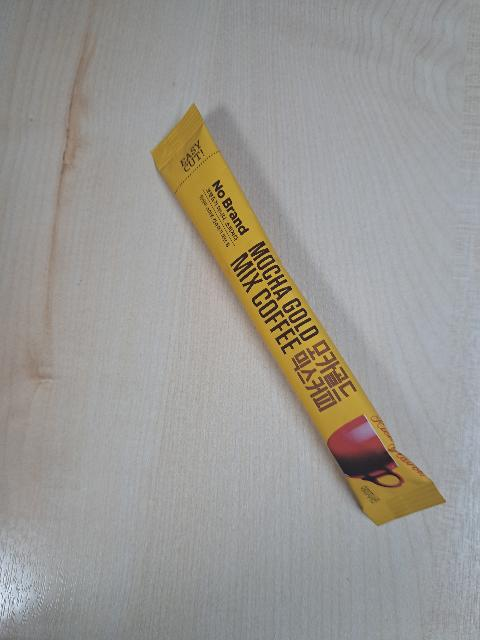mix_coffee: (139, 91, 455, 541)
